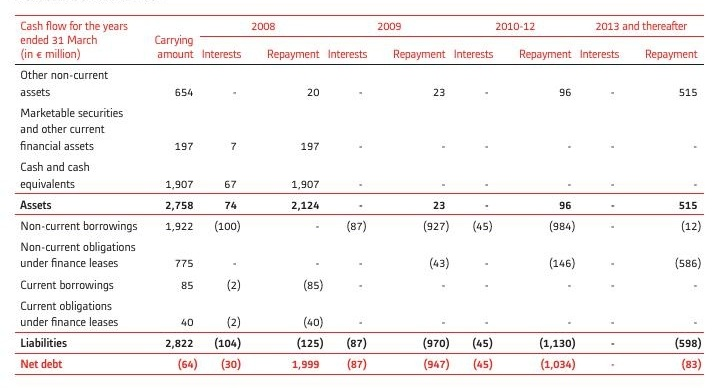table: (0, 0, 719, 388)
